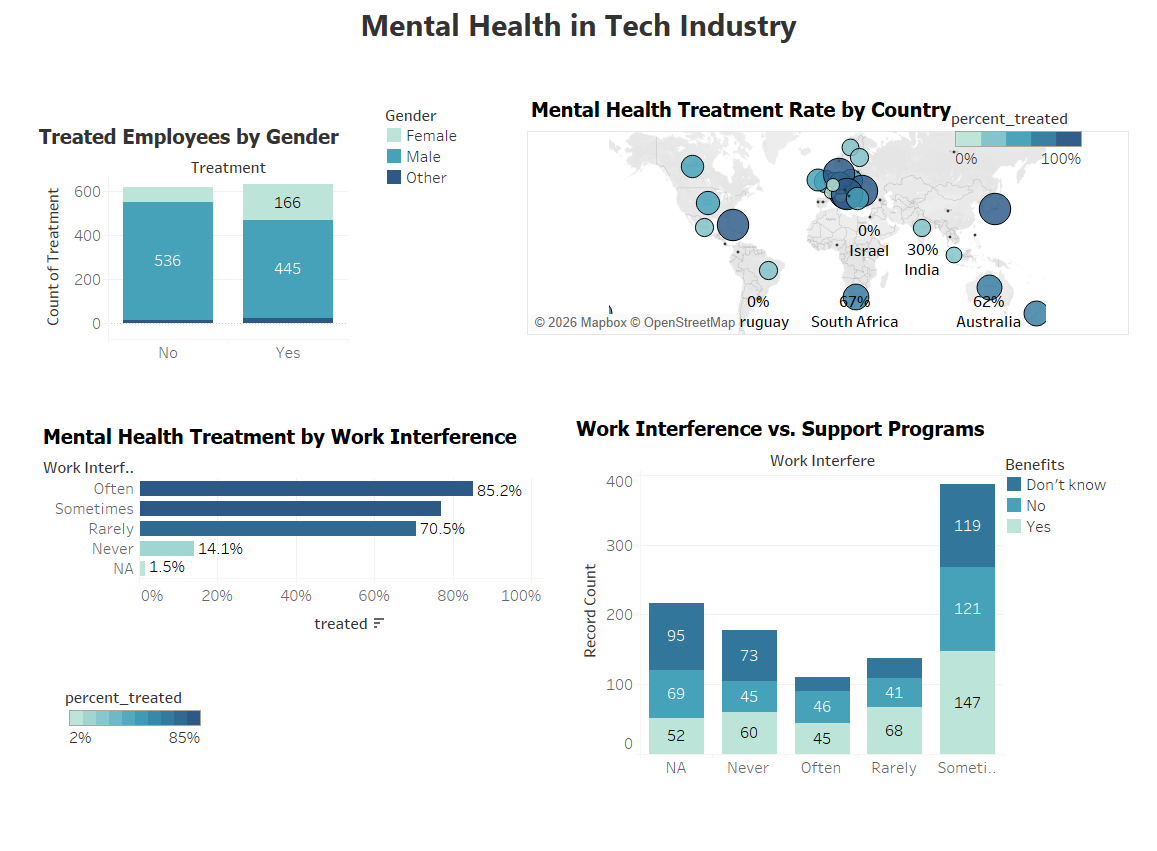

The page's visual inventory and layout, read from the dashboard file:
{"tool":"tableau","page":{"name":"D1","canvas":[1157,851],"ordinal":0},"visuals":[{"type":"title","box":[0,0,1157,48]},{"type":"worksheet","title":"V7","mark":"Circle","box":[527,91,602,244]},{"type":"legend","title":"V1 ","param":"[federated.1qjsn4l1bbmu8o1fbttjl05n6sso].[none:Calculation_1096345057160998914:n","box":[384.1,103.2,162,90.4]},{"type":"legend","title":"V7","param":"[federated.1qjsn4l1bbmu8o1fbttjl05n6sso].[usr:Calculation_1096345057169522692:qk","box":[950.7,103.7,135,68.1]},{"type":"worksheet","title":"V1 ","mark":"Bar","rows":["treatment"],"cols":["treatment"],"box":[35,118,313,246]},{"type":"worksheet","title":"V3","mark":"Bar","rows":["Calculation_2580844084591390735"],"cols":["work_interfere"],"box":[572,410,432,369]},{"type":"worksheet","title":"V8","mark":"Bar","rows":["work_interfere"],"cols":["Calculation_1096345057169522692"],"box":[39,418,504,371]},{"type":"legend","title":"V3","param":"[federated.1qjsn4l1bbmu8o1fbttjl05n6sso].[none:benefits:nk]","box":[1004,452,140,85]},{"type":"legend","title":"V8","param":"[federated.1qjsn4l1bbmu8o1fbttjl05n6sso].[usr:Calculation_1096345057169522692:qk","box":[65,683,140,88]}]}

Visuals, with their boxes in screenshot pixels (x1, y1, x2, y2), scaled from the page's 1157x851 canvas onto the 1157x851 screenshot:
title: (0,0,1156,48)
"V7" worksheet (Circle marks): (527,91,1129,335)
"V1 " legend: (384,103,546,194)
"V7" legend: (951,104,1086,172)
"V1 " worksheet (Bar marks): (35,118,348,364)
"V3" worksheet (Bar marks): (572,410,1004,779)
"V8" worksheet (Bar marks): (39,418,543,789)
"V3" legend: (1004,452,1144,537)
"V8" legend: (65,683,205,771)
